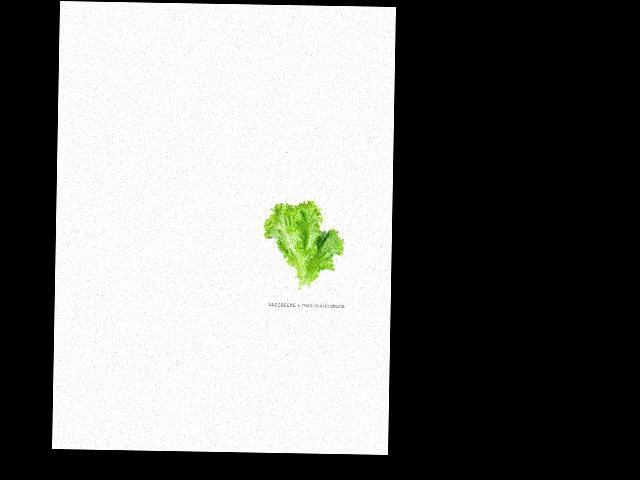lettuce: (277, 207, 357, 324)
